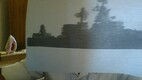tau_muctieu: (32, 2, 142, 54)
